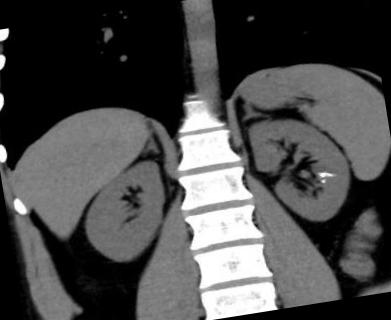Tas_Var: (324, 170, 336, 178), (317, 171, 327, 178), (319, 178, 326, 184)
